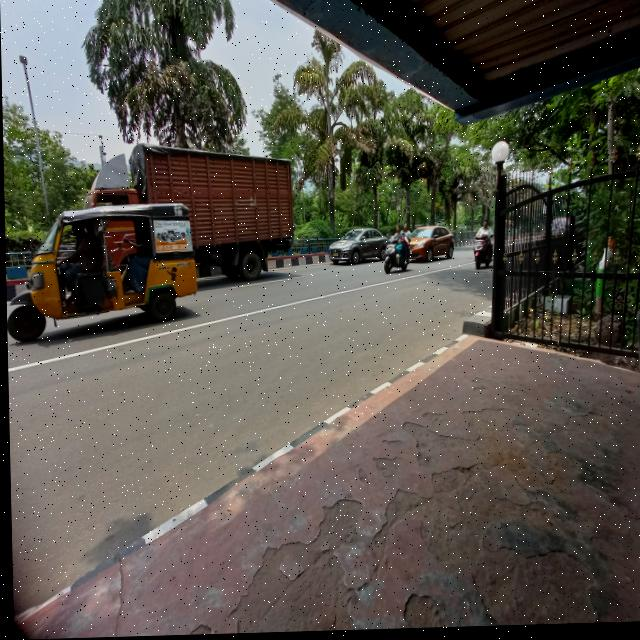bike: (384, 235, 416, 278), (467, 235, 492, 274)
car: (321, 226, 388, 277)
